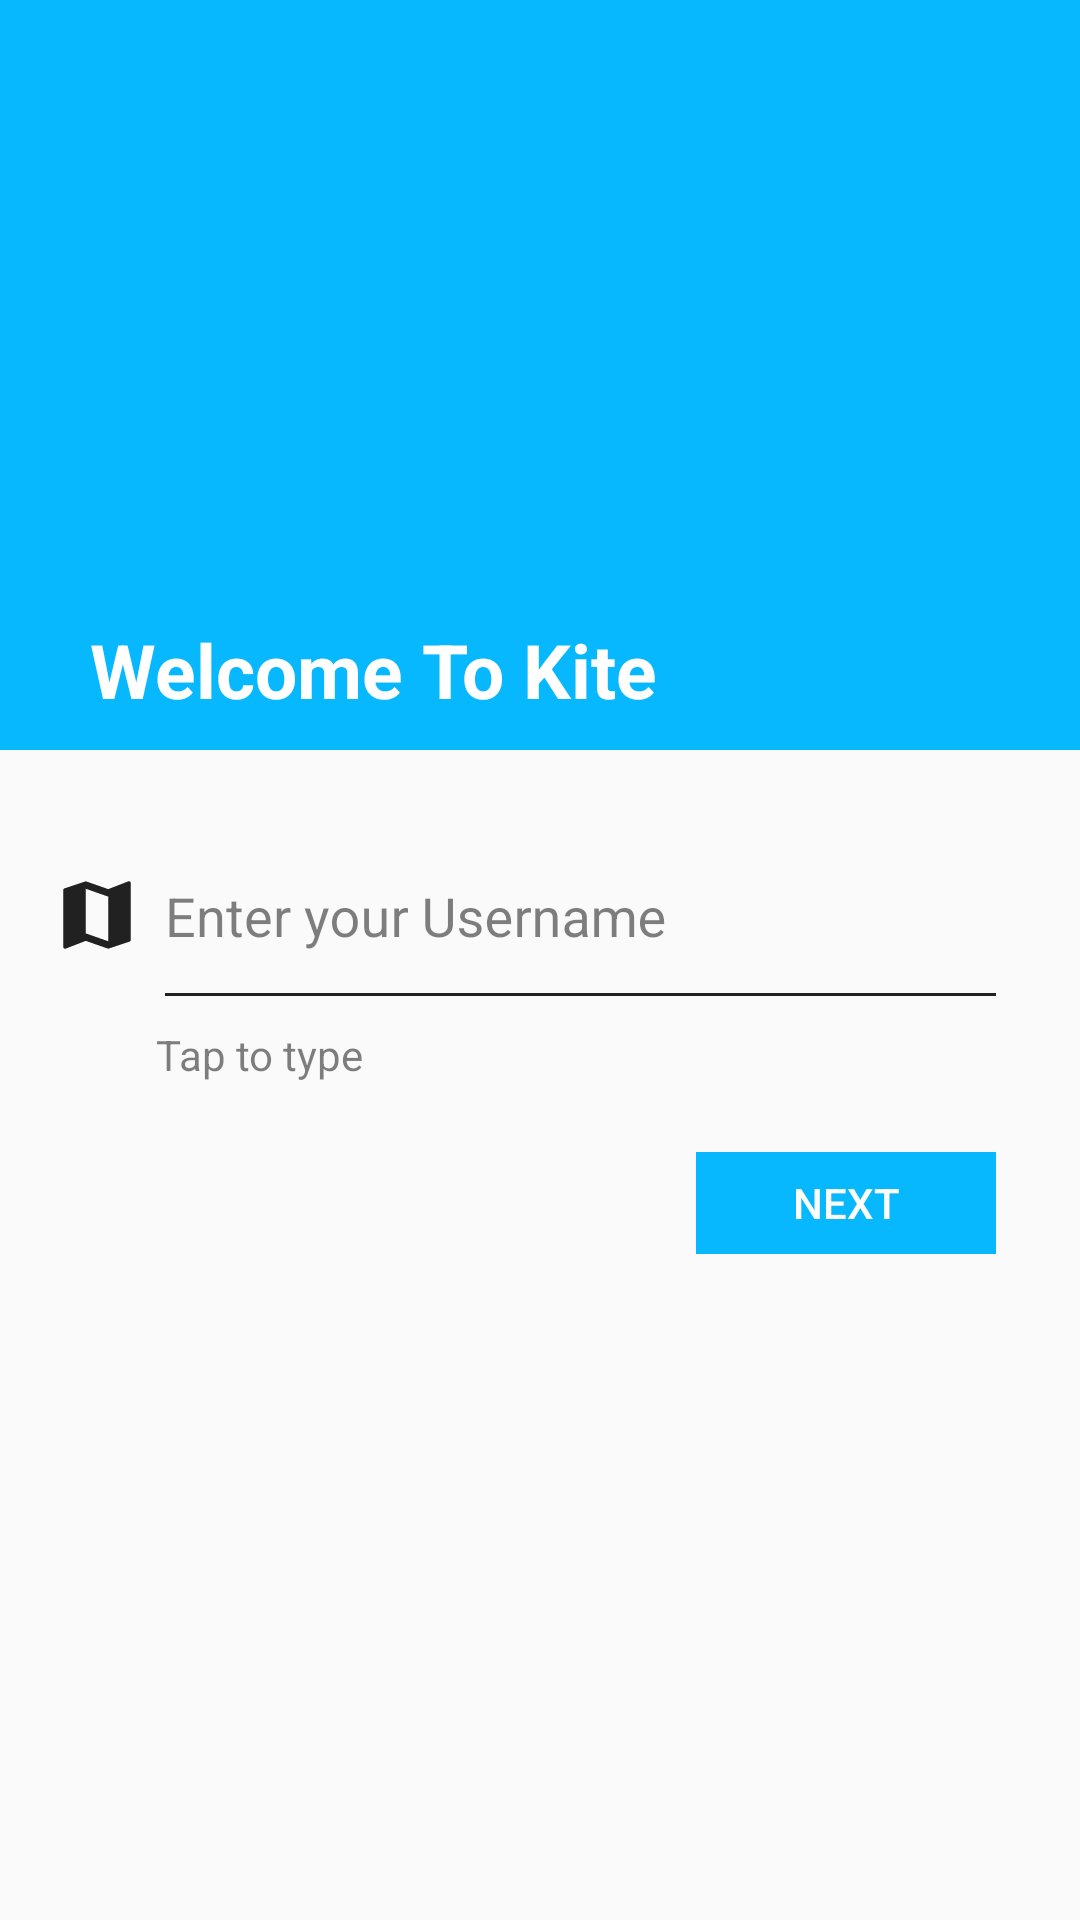

Named icons in this screenshot (1080*1920) and their bounding boxes, (x1, y1, x2, y2):
map: (63, 881, 131, 949)
